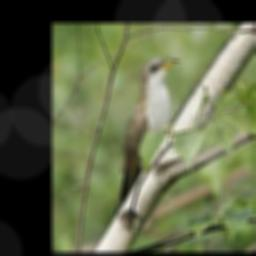Cuckoo: (114, 56, 180, 218)
